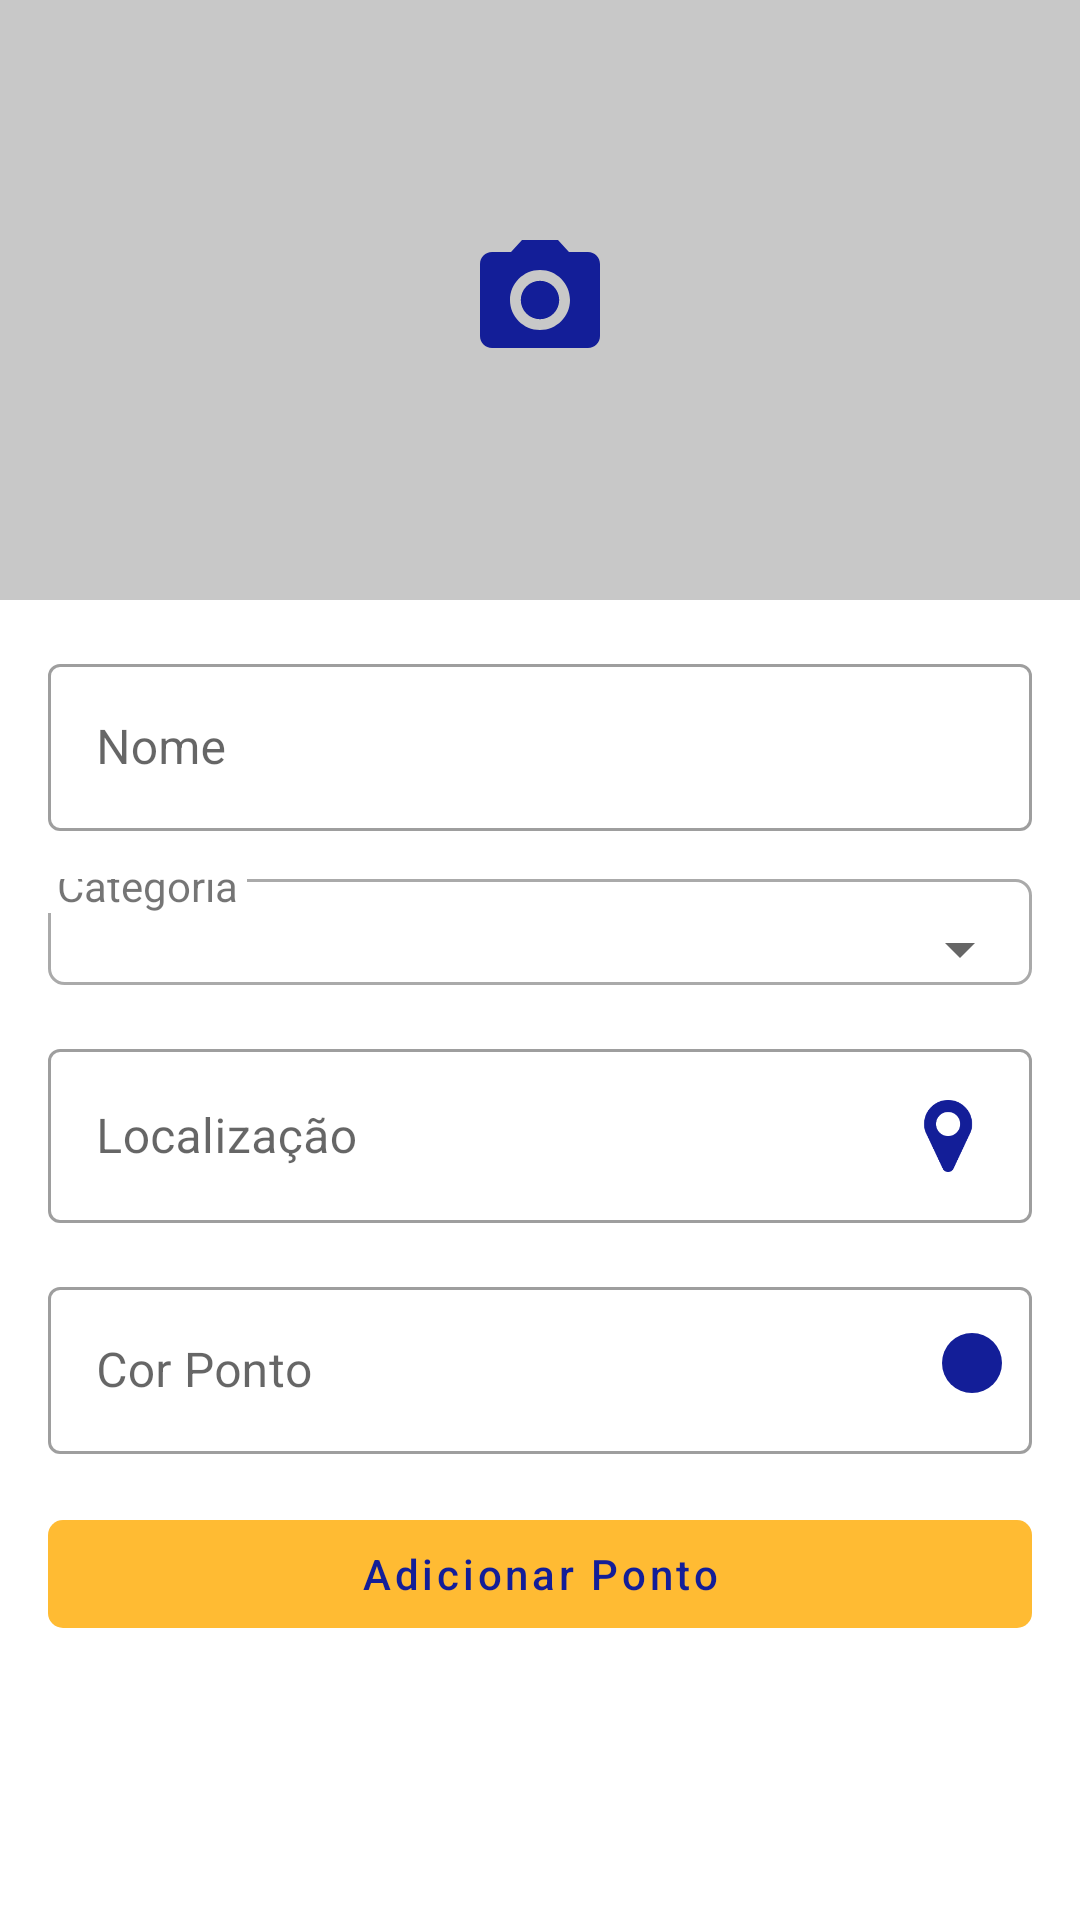

Screen size 1080×1920. Icon name, then its box in pixels as (x1=x1, y1=y1, x2=x2, y2=y2):
spot: (x1=942, y1=1333, x2=1002, y2=1393)
